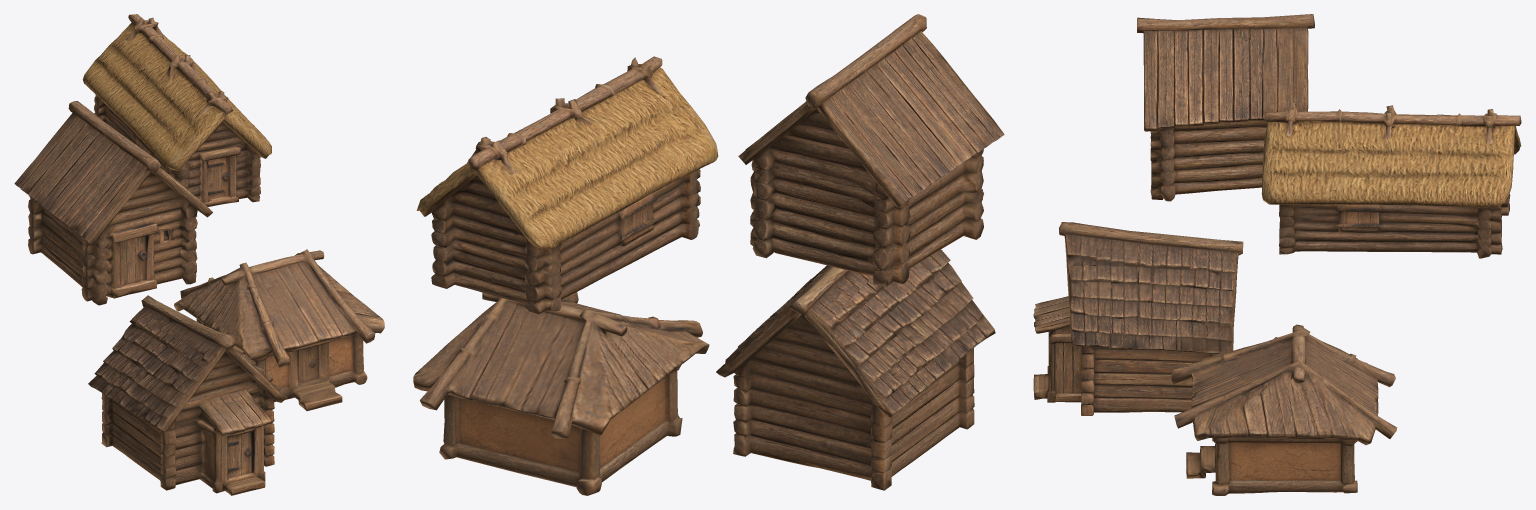
File: wooden log cabin 3d model.glb
3 renders of one model, left to right at view 1: azimuth 30°, elevation 25°; view 2: azimuth 150°, elevation 25°; view 3: azimuth 270°, elevation 25°, orthographic. The views are drawn at different scales.
Parts seen in each view (by area): view 1: tripo_node_36d49803-7791-44c9-9f34-249a5155a39a; view 2: tripo_node_36d49803-7791-44c9-9f34-249a5155a39a; view 3: tripo_node_36d49803-7791-44c9-9f34-249a5155a39a.
Boxes of the visible parts, box(x1,y1,x2,y2) form: tripo_node_36d49803-7791-44c9-9f34-249a5155a39a: box(14, 14, 384, 495); tripo_node_36d49803-7791-44c9-9f34-249a5155a39a: box(413, 14, 1004, 495); tripo_node_36d49803-7791-44c9-9f34-249a5155a39a: box(1033, 14, 1521, 495).
Size of the model in its own units: 0.8627 by 0.789 by 1.
Materials: 1 (1 with a texture image).
